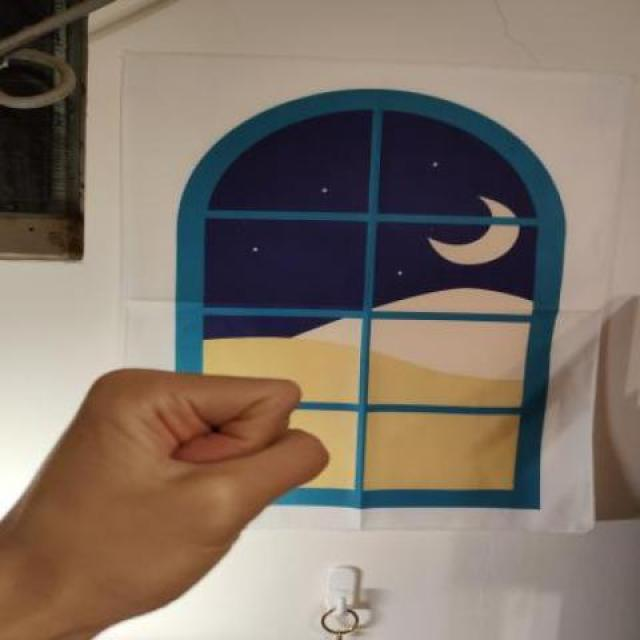fist: (0, 369, 332, 640)
